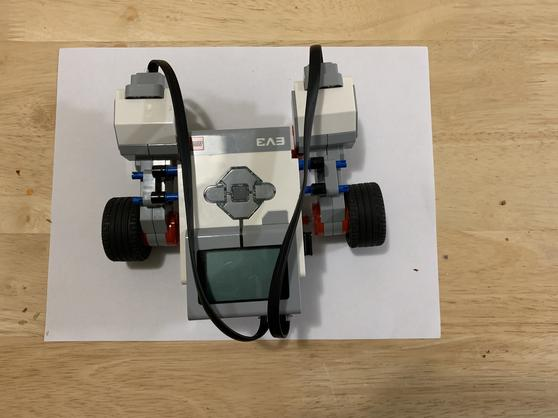robot: (104, 45, 397, 338)
